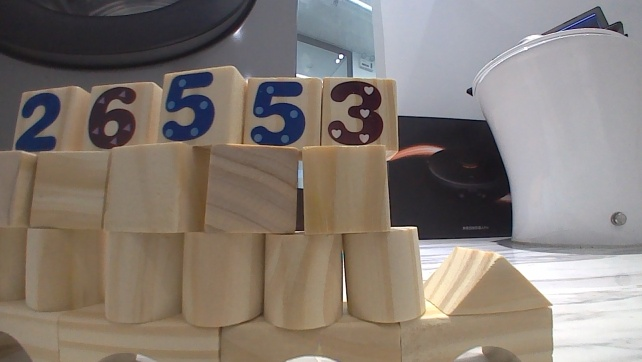plastic_toy: (0, 60, 559, 362)
toilet: (470, 24, 642, 248)
washing_machine1: (0, 0, 304, 151)
